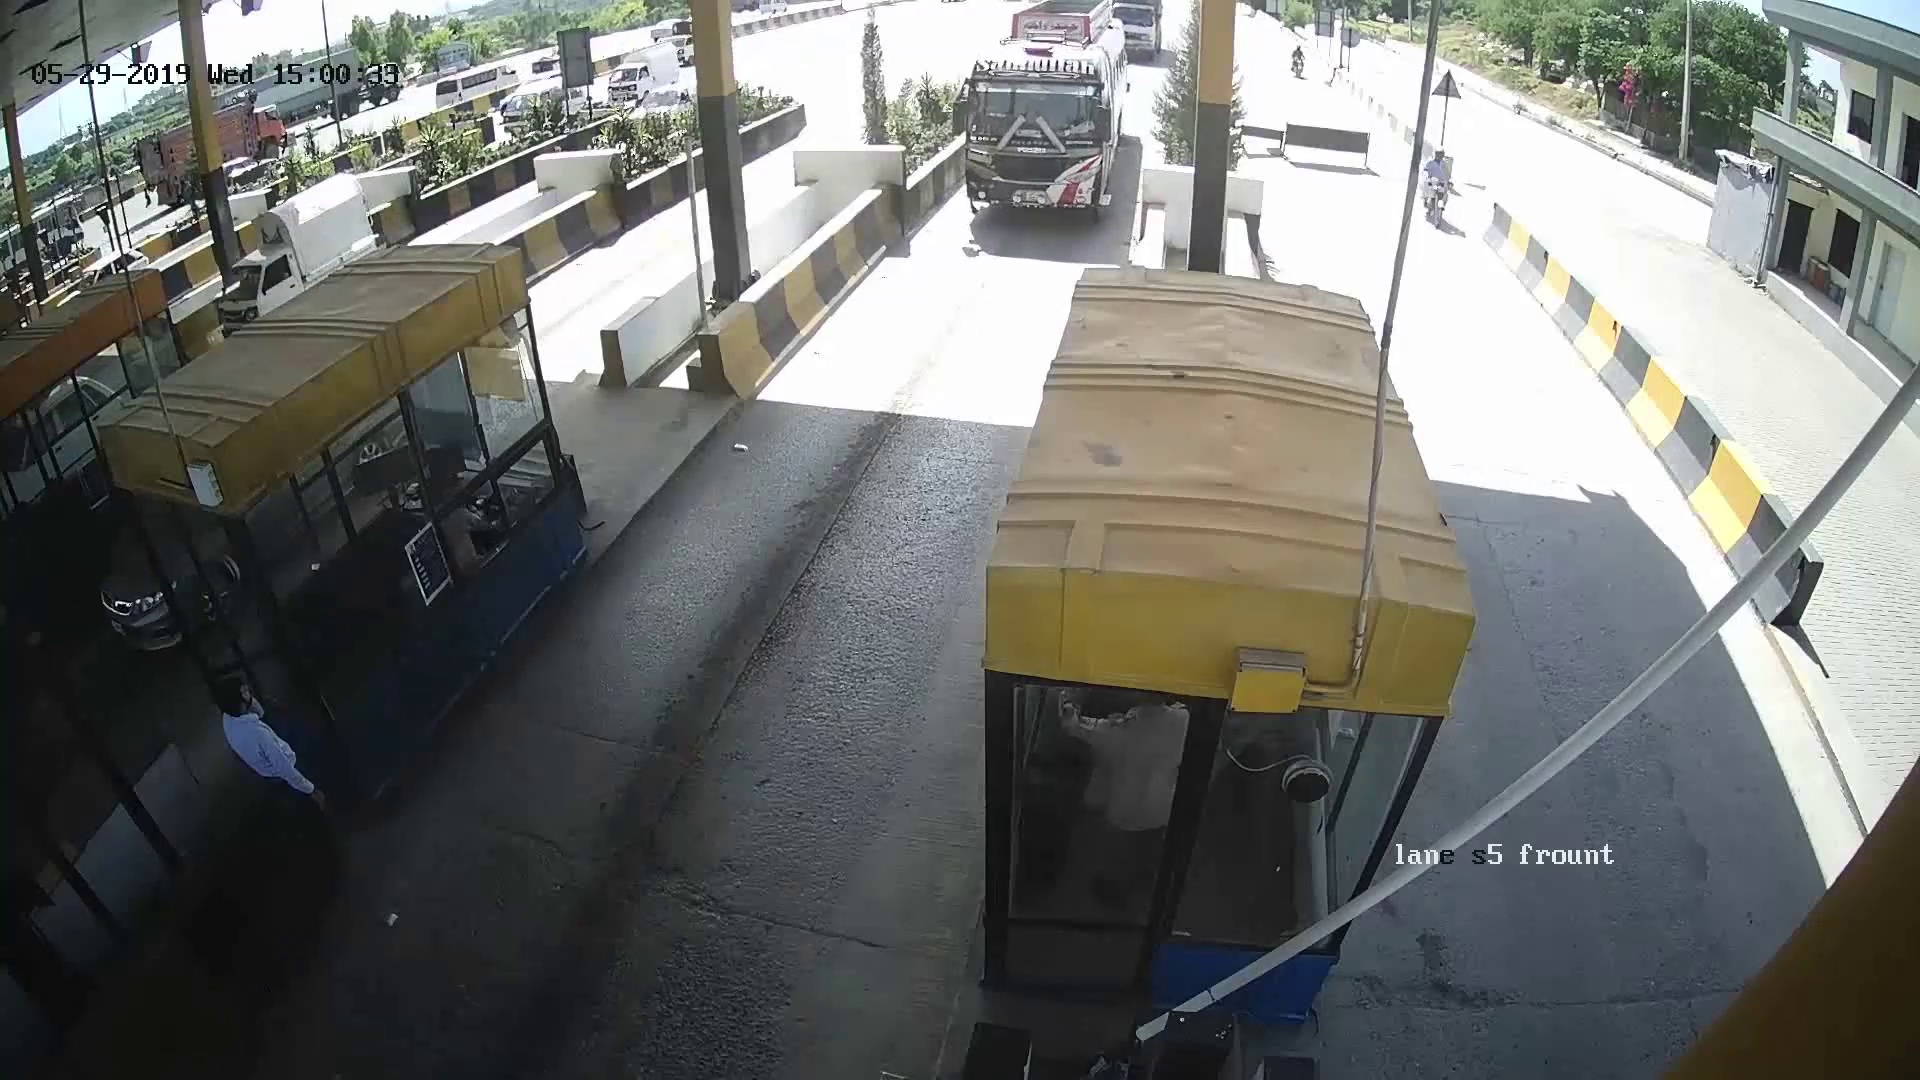bus: (945, 42, 1131, 225)
